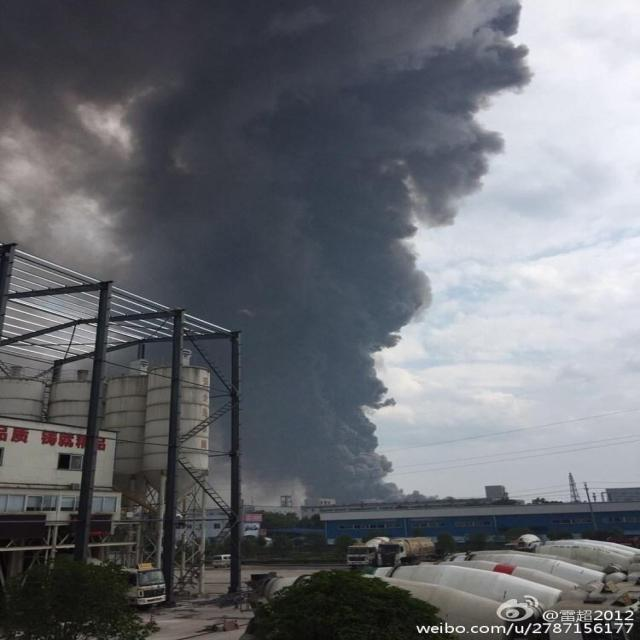Smoke: (1, 0, 537, 502)
